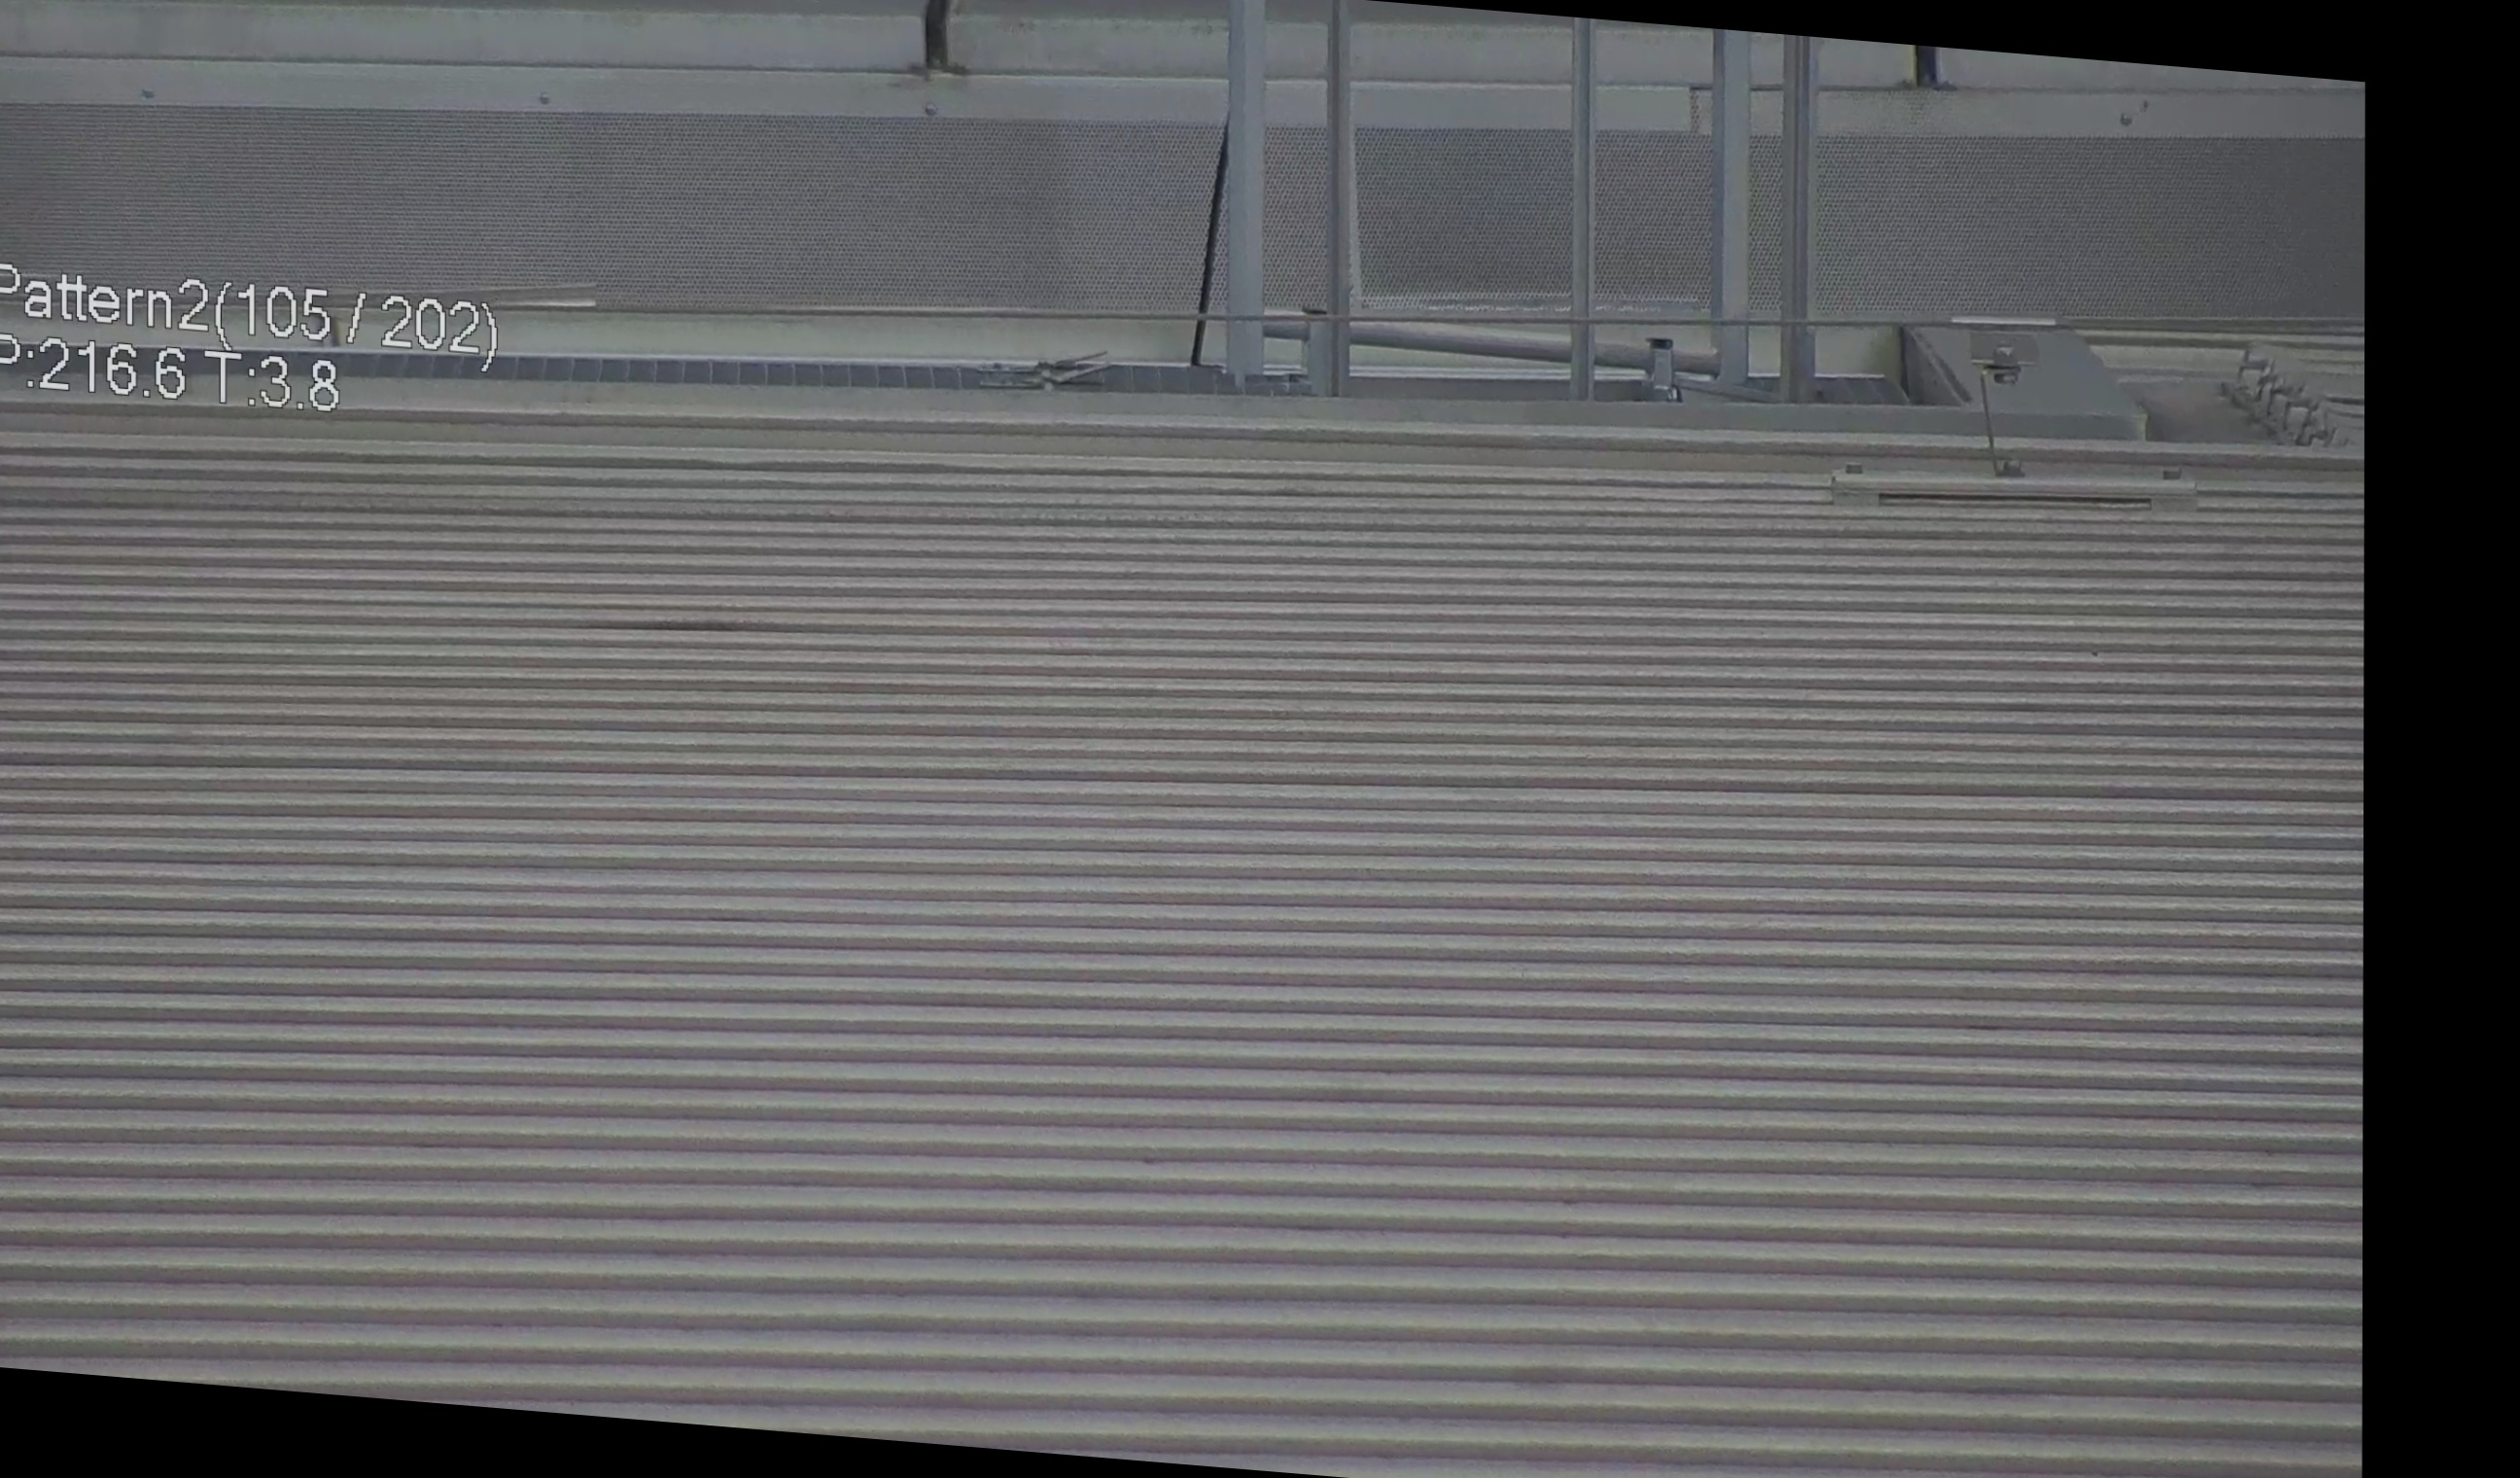Other: (1878, 0, 1975, 93)
